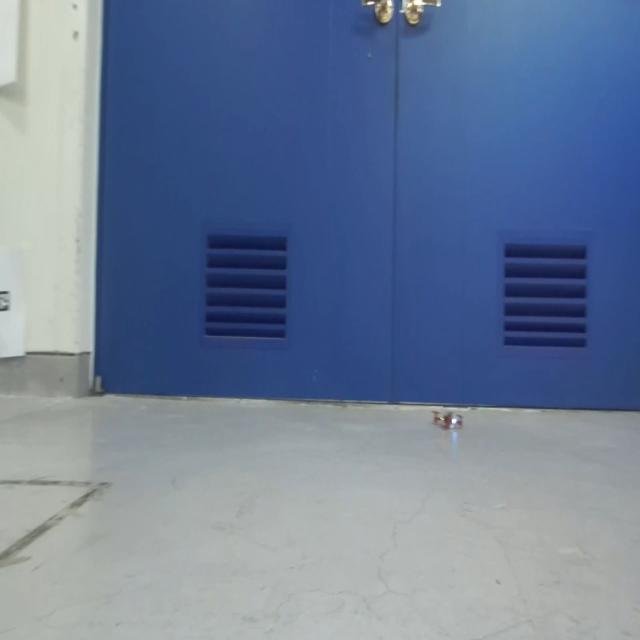crazyflie: (429, 405, 468, 432)
